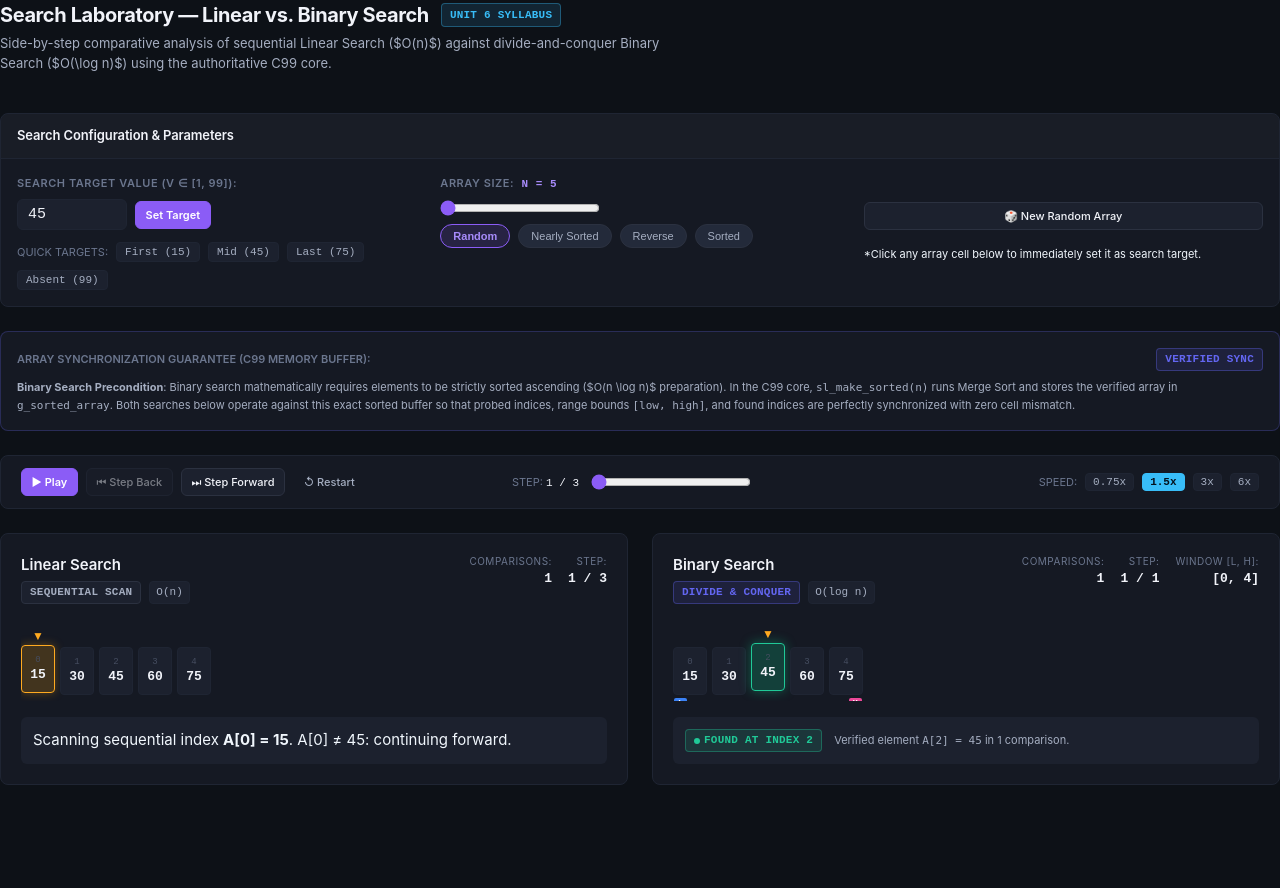
Test case: Search Lab Suite — C99 Search Invariants & Interactive Workbench › SearchLab Component Interactive UI › steps through search and displays final comparative takeaway banner upon completion
Expected: the heading "Linear Search" is shown, x1=21 y1=555 x2=121 y2=574
# Seek to end using timeline scrubber
Step 1. Set the slider named "search timeline scrubber" to "2" → (743, 482), box x1=591 y1=474 x2=751 y2=490
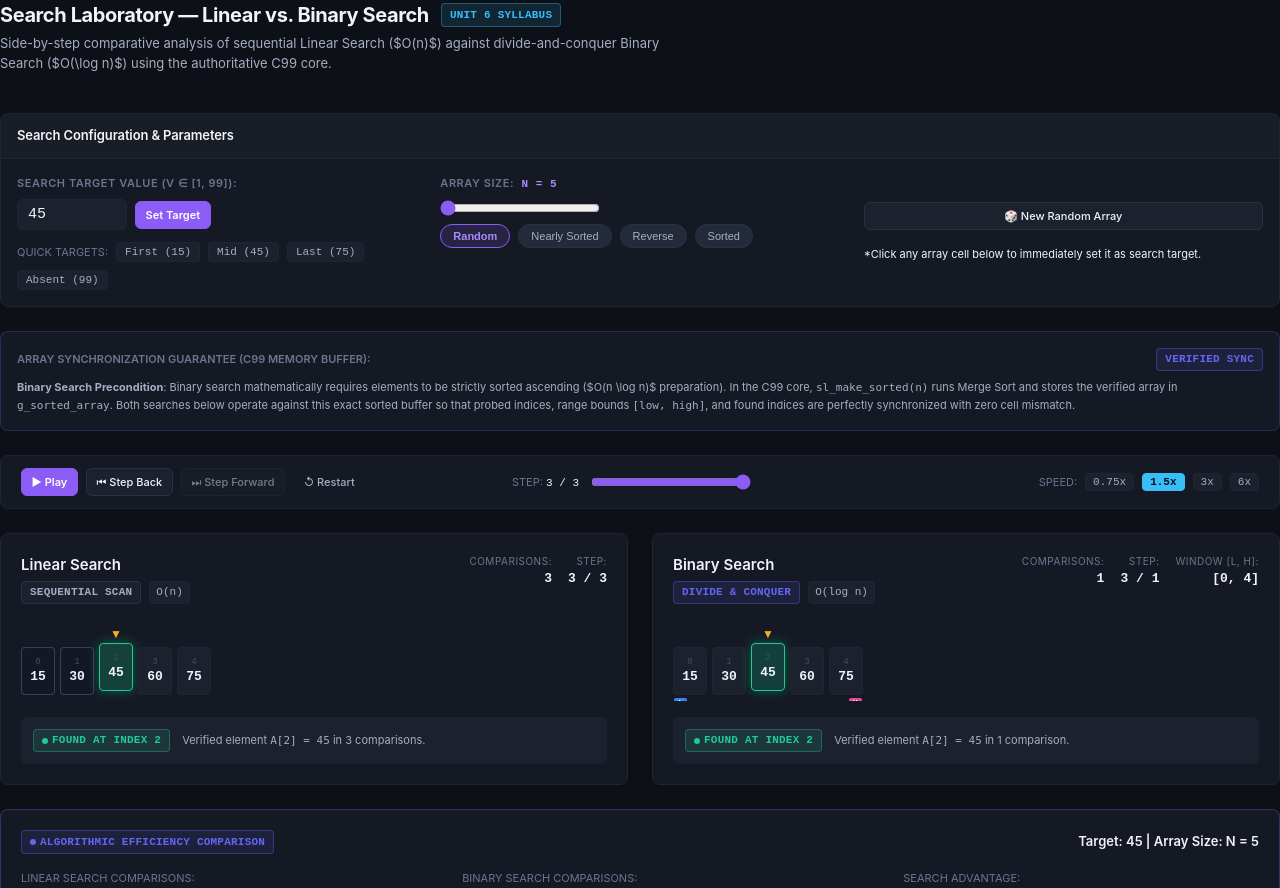
Now the text "ALGORITHMIC EFFICIENCY COMPARISON" is shown, box x1=21 y1=830 x2=274 y2=854
Now the text "SEARCH ADVANTAGE:" is shown, box x1=903 y1=871 x2=1020 y2=885
